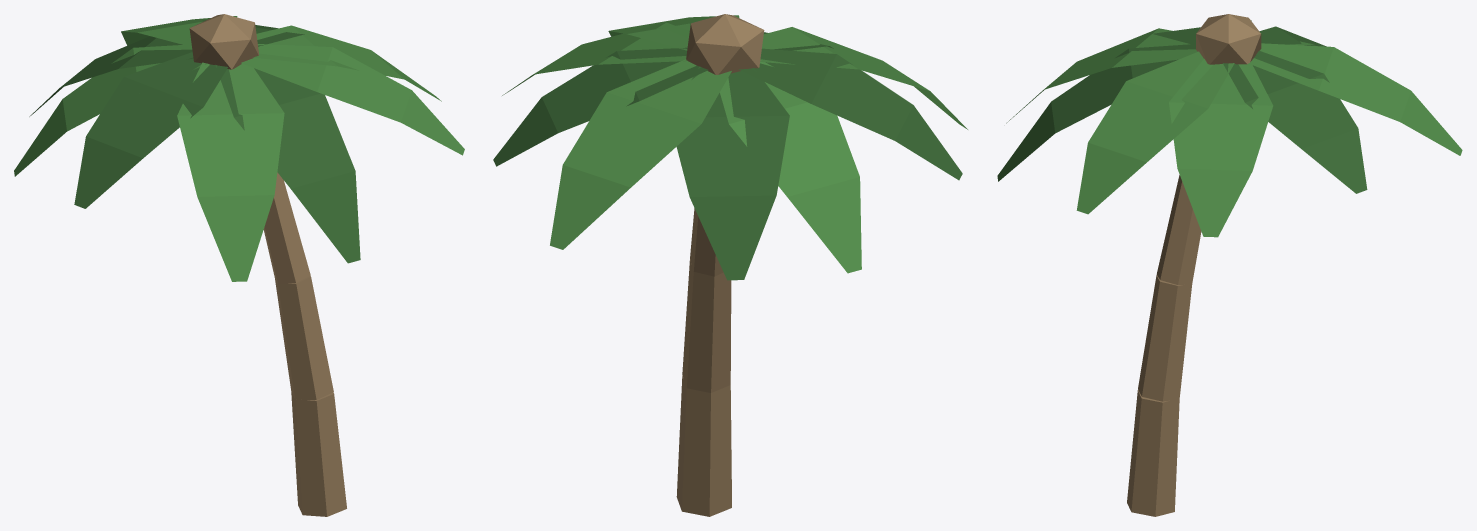
Rendered from palm-v2-winter.glb.
3 renders of one model, left to right at view 1: azimuth 30°, elevation 25°; view 2: azimuth 150°, elevation 25°; view 3: azimuth 270°, elevation 25°, orthographic. The views are drawn at different scales.
Parts seen in each view (by area): view 1: palm_v2; view 2: palm_v2; view 3: palm_v2.
Boxes of the visible parts, bbox=[...] form: palm_v2: bbox=[14, 14, 464, 516]; palm_v2: bbox=[493, 14, 967, 516]; palm_v2: bbox=[997, 14, 1462, 516].
Size of what is drawn, in the model's own units: 4.75 by 5.66 by 5.1.
